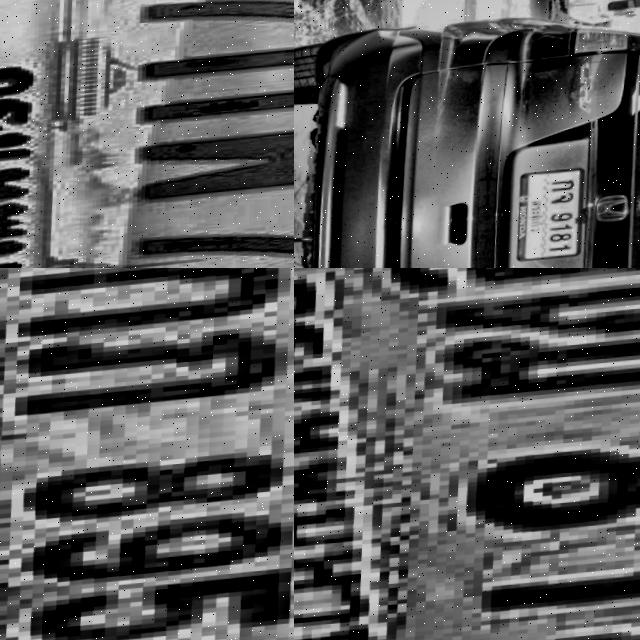license-plate: (294, 268, 640, 640), (0, 268, 294, 640), (0, 0, 294, 268), (516, 172, 594, 267)
